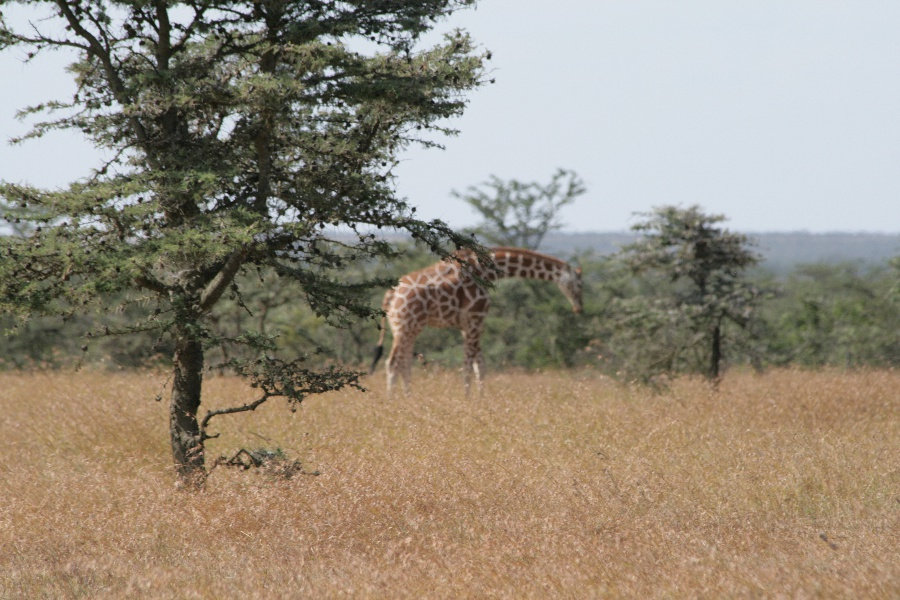giraffe: (363, 233, 600, 402)
